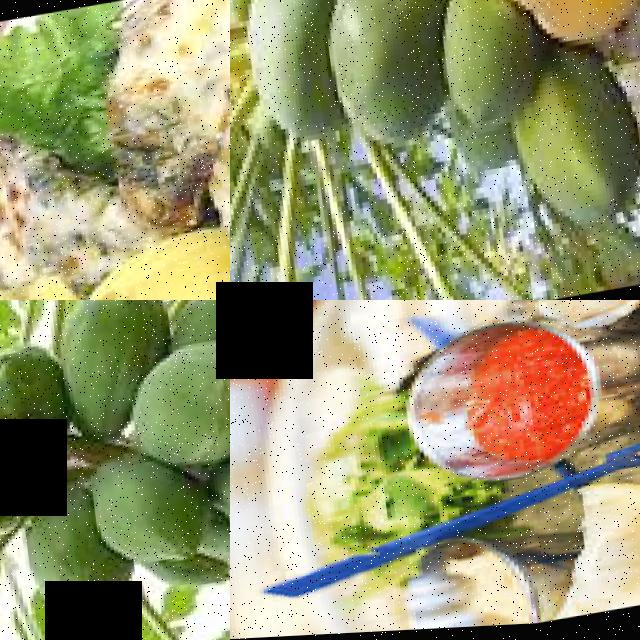pawpaw: (317, 0, 458, 163), (516, 87, 640, 231), (82, 450, 204, 577), (130, 332, 230, 477), (437, 0, 532, 140), (16, 489, 104, 624), (49, 300, 168, 388), (170, 300, 230, 356)
